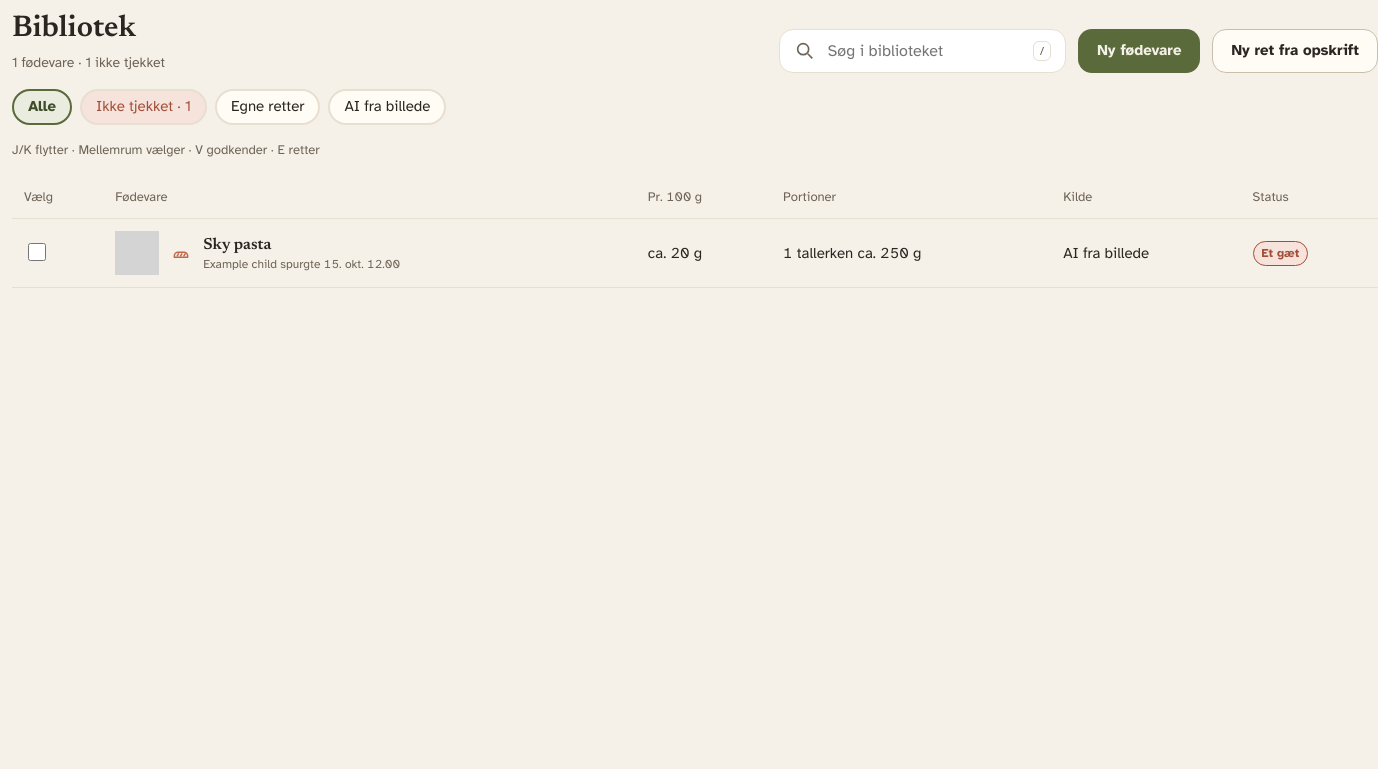
renders an asked photo as an approximate unchecked guess and shows its photo and portion in the editor
Expected: the text "ca. 20 g" is shown, [636, 219, 771, 288]
Expected: the text "1 tallerken ca. 250 g" is shown, [771, 219, 1051, 288]
Click the button with aria-label "Ret Sky pasta": (237, 246) [203, 236, 271, 255]
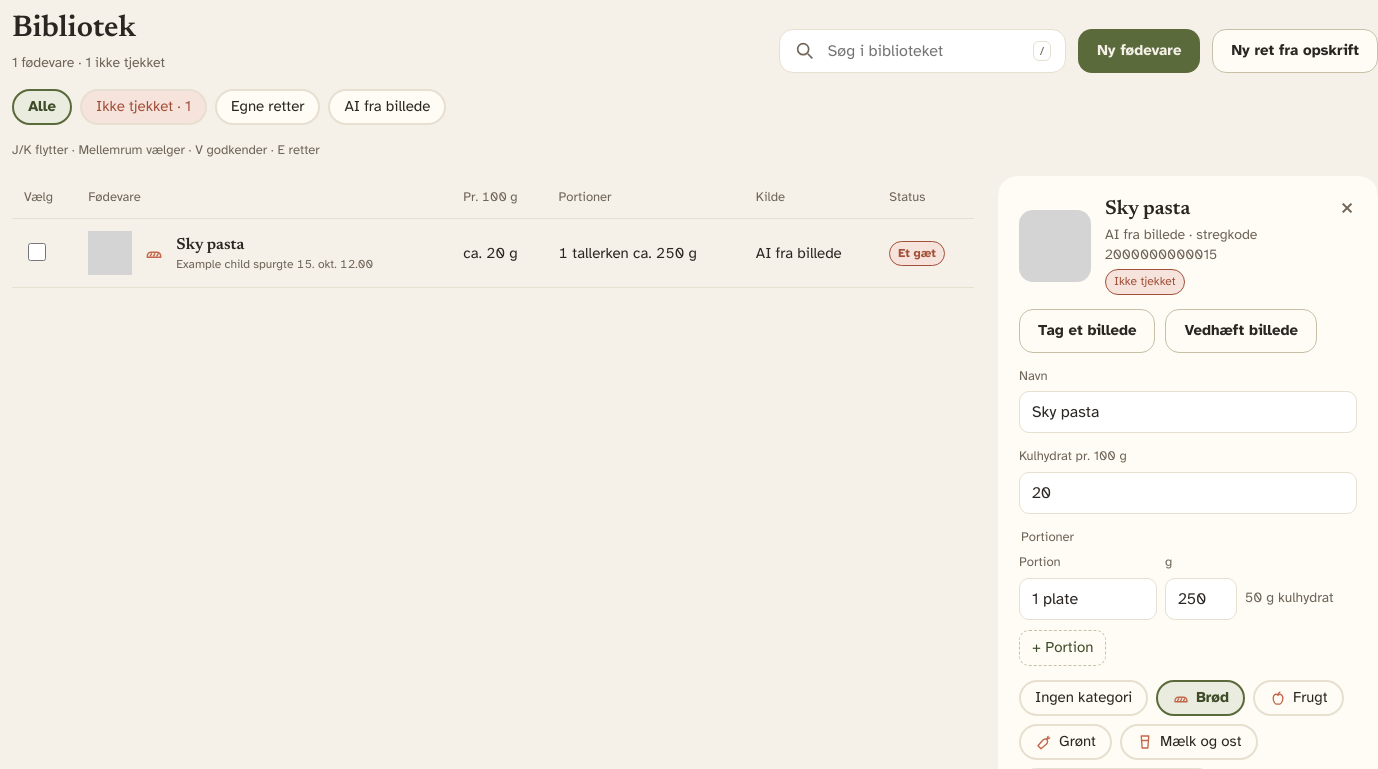
Result: the field showing "250" is shown at [1165, 578, 1237, 620]
